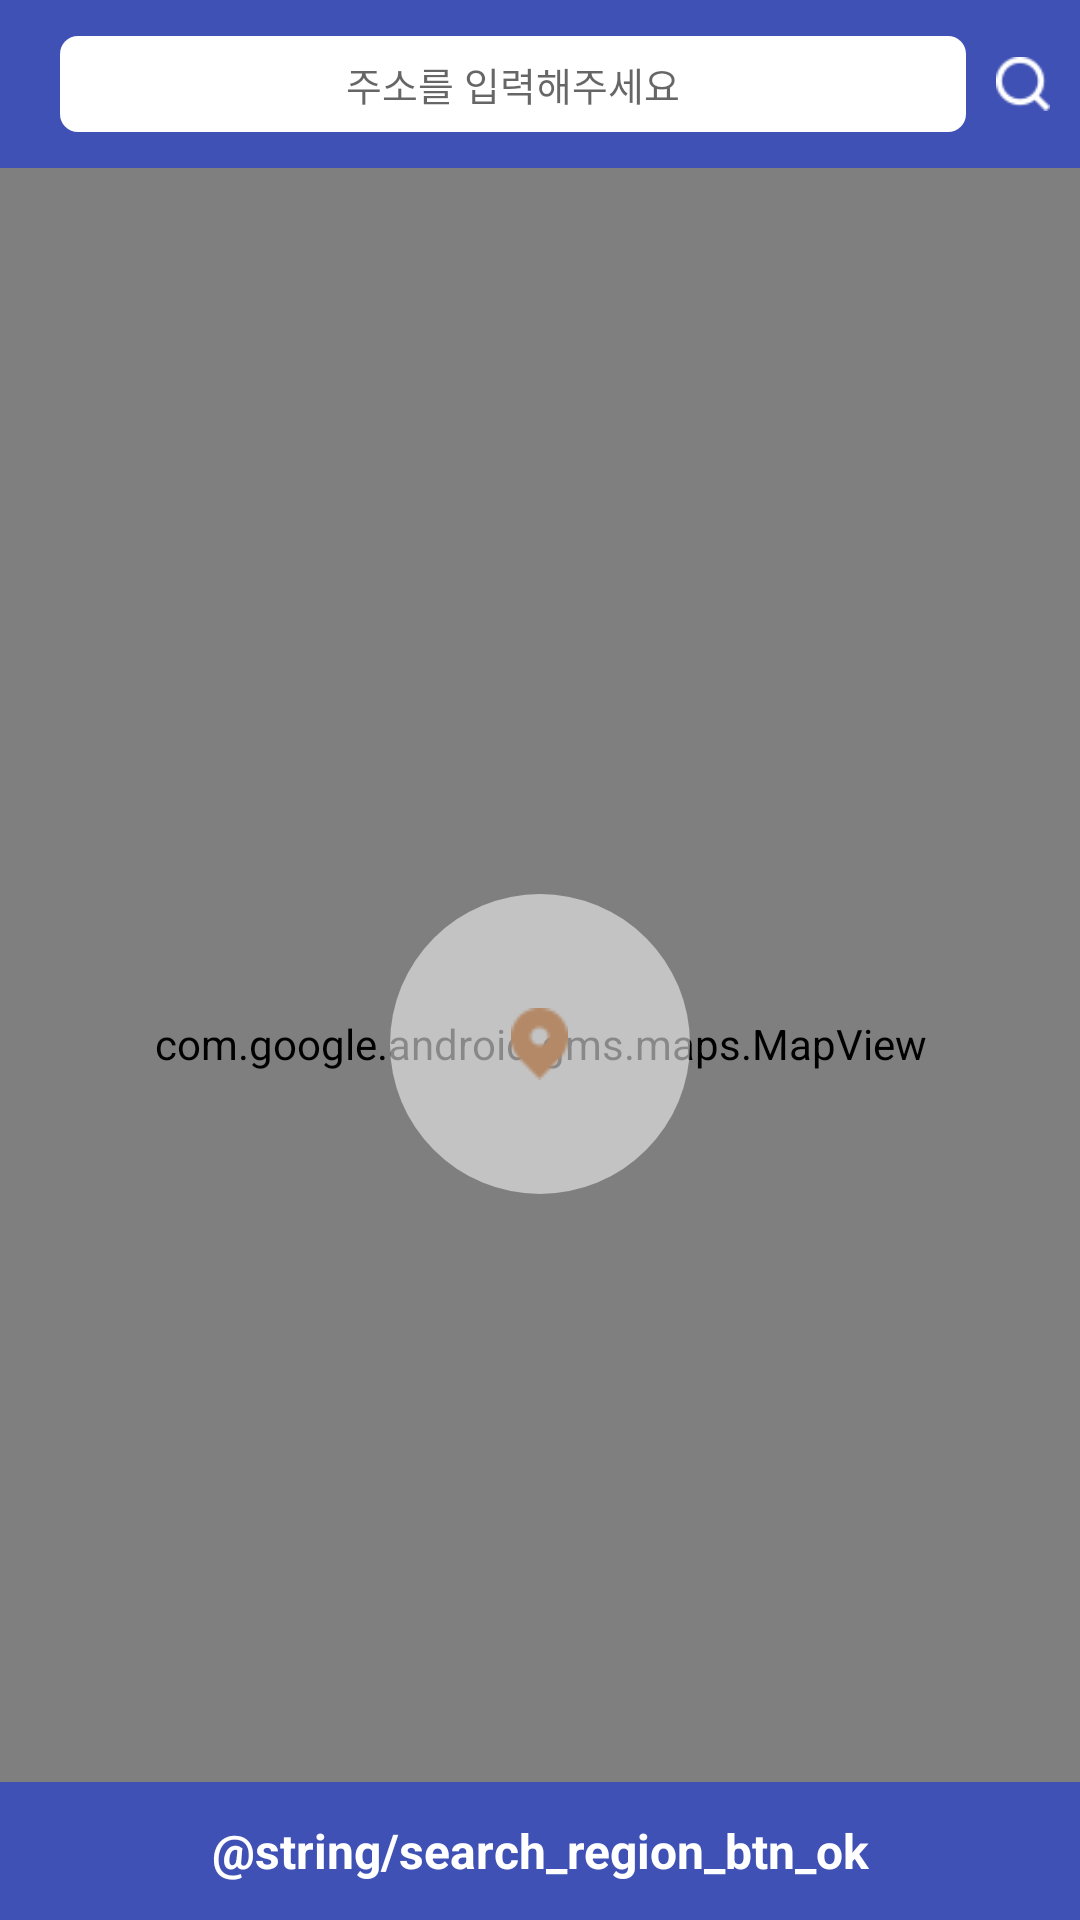

Named icons in this screenshot (1080w x 1920h) and their bounding boxes, (x1, y1, x2, y2):
location: (511, 1008, 568, 1080)
search: (996, 57, 1050, 111)
